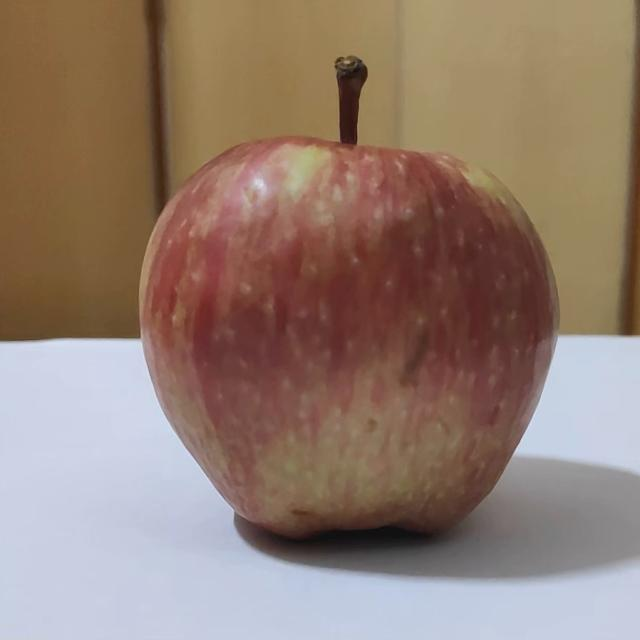apple: (134, 57, 559, 549)
